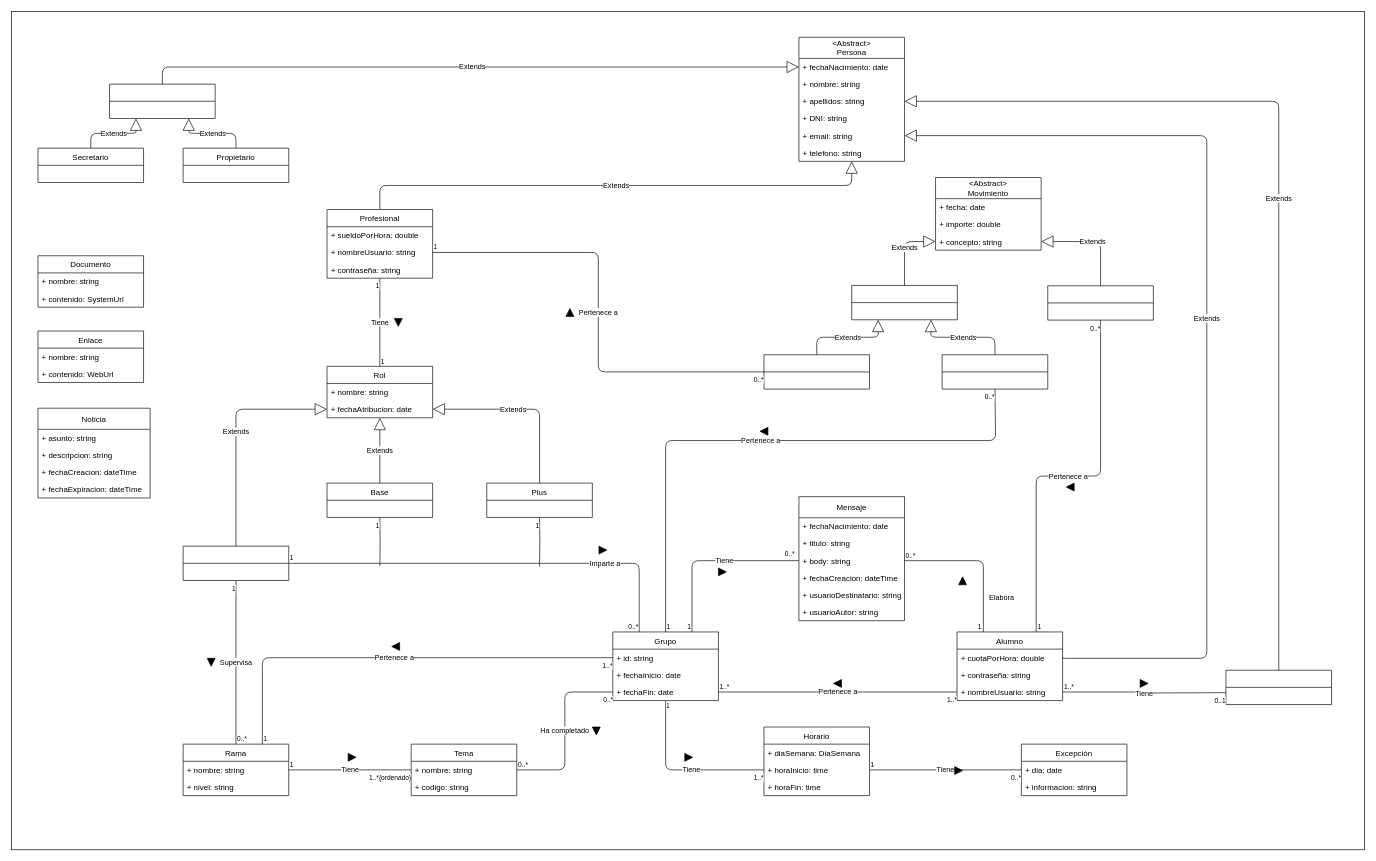
The diagram is 1376 pixels wide and 861 high, and some of its shapes have lost their labels. Each missing label, with the centre of its shape:
Administrador: the point at 162,100
Coordinador: the point at 235,562
Gasto: the point at 904,302
GastoMantenimiento: the point at 994,371
Ingreso: the point at 1100,302
PagoNomina: the point at 816,371
TutorLegal: the point at 1278,687
